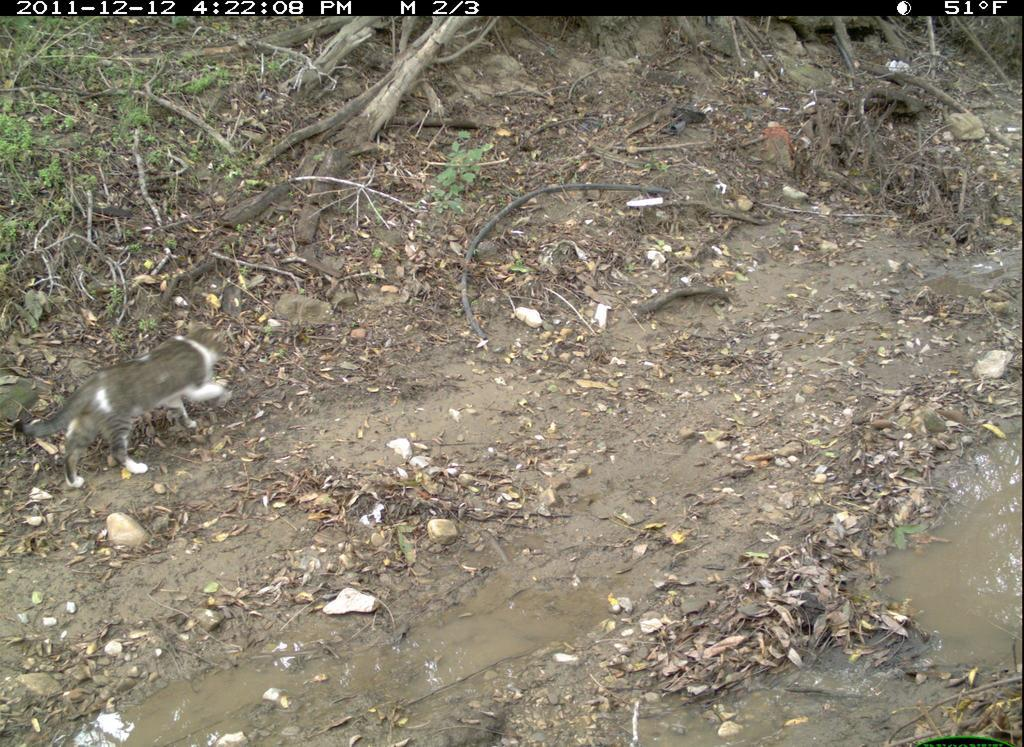cat: (15, 313, 249, 486)
